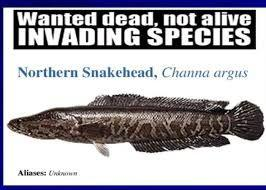Snakehead: (7, 86, 266, 168)
